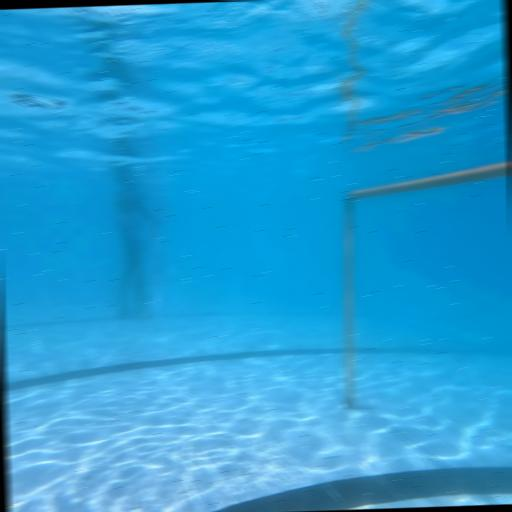gate: (334, 159, 512, 408)
